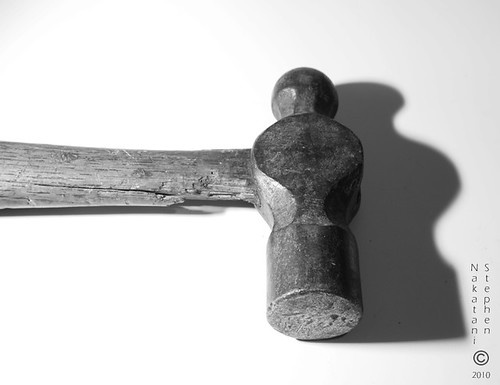hammer: (1, 66, 365, 344)
